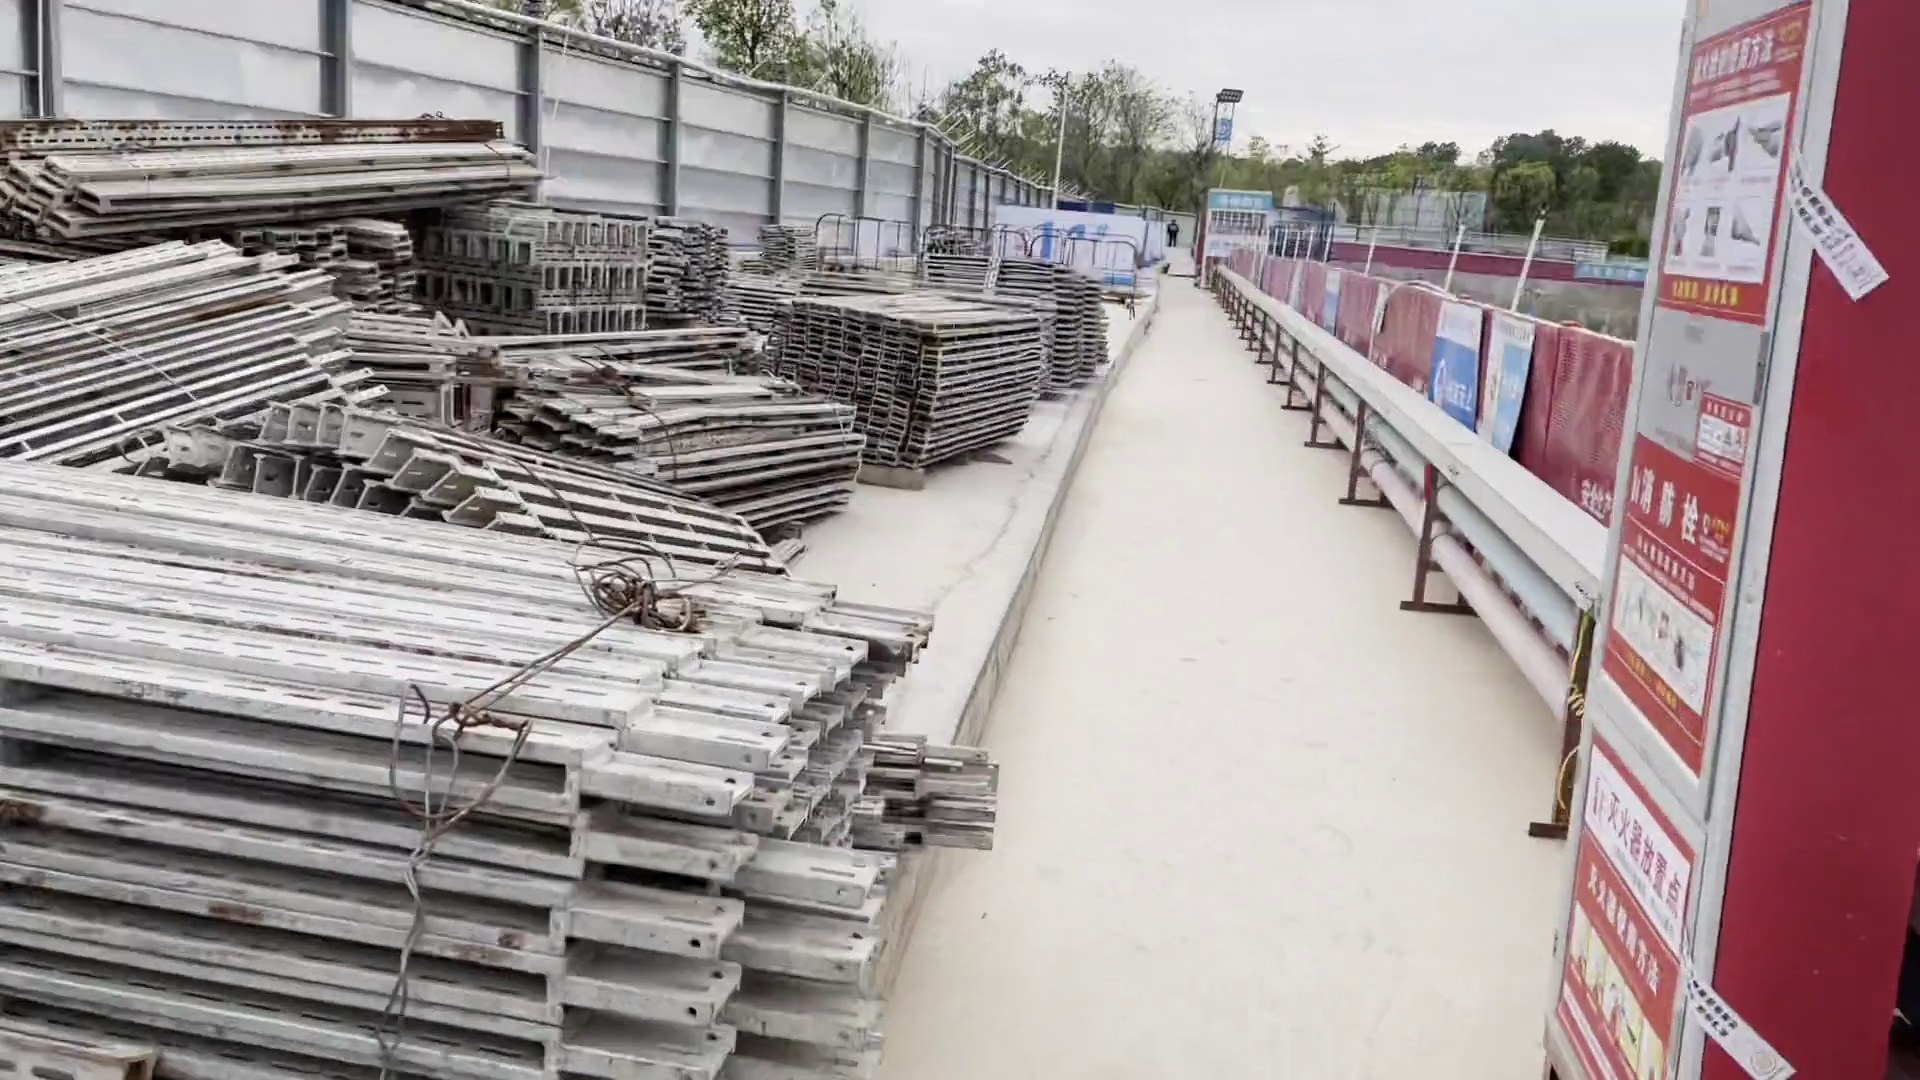fence: (1461, 316, 1619, 545), (1281, 257, 1468, 441), (815, 211, 1141, 291)
helmet: (1169, 218, 1177, 223)
person: (1162, 215, 1186, 250)
slogan: (1592, 446, 1746, 765), (1658, 18, 1802, 315), (1569, 761, 1704, 1080), (1423, 296, 1554, 470), (1308, 269, 1371, 362), (1195, 223, 1292, 266), (1199, 182, 1273, 211), (1200, 115, 1240, 141)
vest: (1168, 221, 1183, 235)
